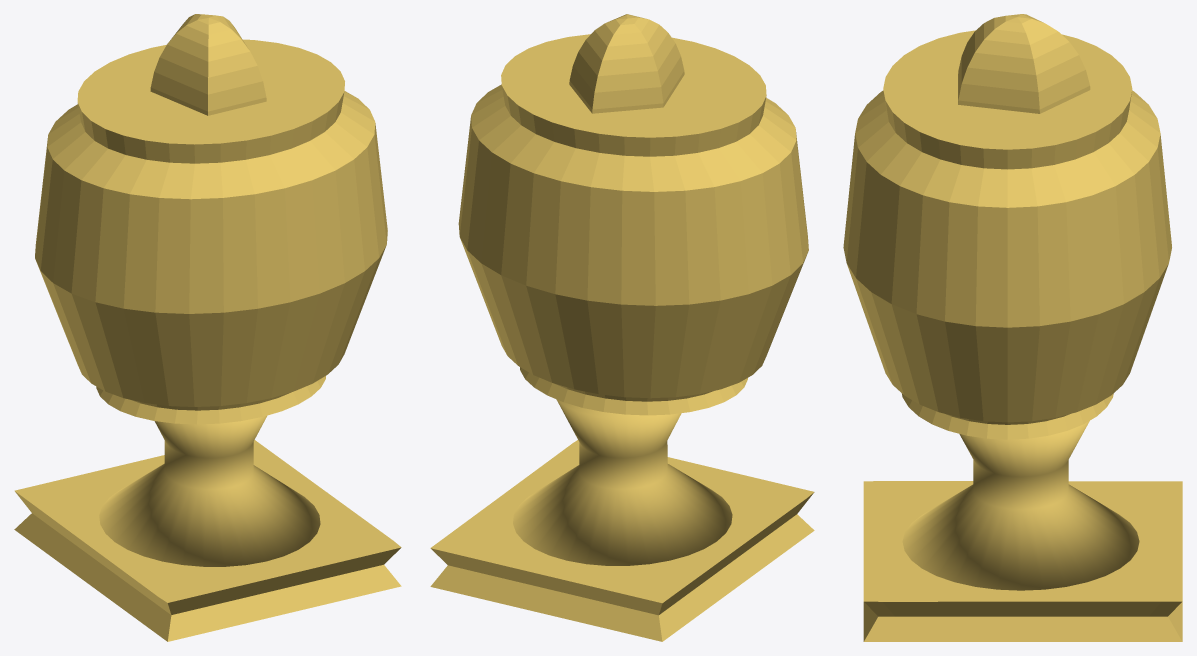
The model's file is urn.fbx.
The picture shows the model from 3 angles, left to right: view 1: azimuth 30°, elevation 25°; view 2: azimuth 150°, elevation 25°; view 3: azimuth 270°, elevation 25°; orthographic projection. The views are drawn at different scales.
Parts seen in each view (by area): view 1: Cylinder.001, Cube, Cylinder, Sphere; view 2: Cylinder.001, Cube, Cylinder, Sphere; view 3: Cylinder.001, Cube, Cylinder, Sphere.
Part boxes in pixels (left/top/right/bottom): Cylinder.001: left=35, top=39, right=387, bottom=424; Cube: left=14, top=440, right=401, bottom=641; Cylinder: left=99, top=416, right=320, bottom=566; Sphere: left=150, top=14, right=266, bottom=115; Cylinder.001: left=458, top=34, right=808, bottom=415; Cube: left=430, top=440, right=814, bottom=641; Cylinder: left=513, top=399, right=732, bottom=565; Sphere: left=569, top=14, right=684, bottom=113; Cylinder.001: left=843, top=30, right=1171, bottom=439; Cube: left=863, top=481, right=1182, bottom=641; Cylinder: left=902, top=421, right=1139, bottom=590; Sphere: left=958, top=14, right=1090, bottom=113.
Bounding box in the file's own units: 57 × 93.53 × 50.91.
